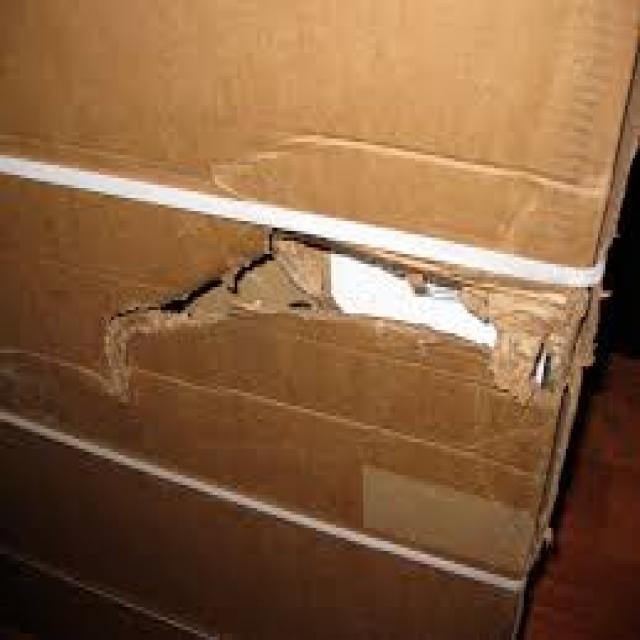box: (1, 1, 640, 640)
crushed: (212, 112, 605, 212)
tear: (103, 214, 566, 411)
